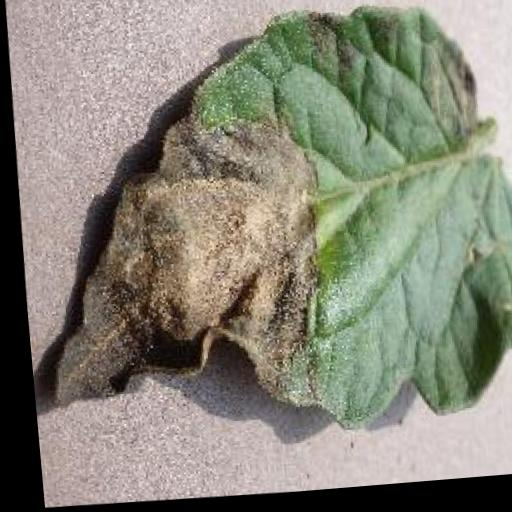Late Blight: (14, 0, 512, 458)
